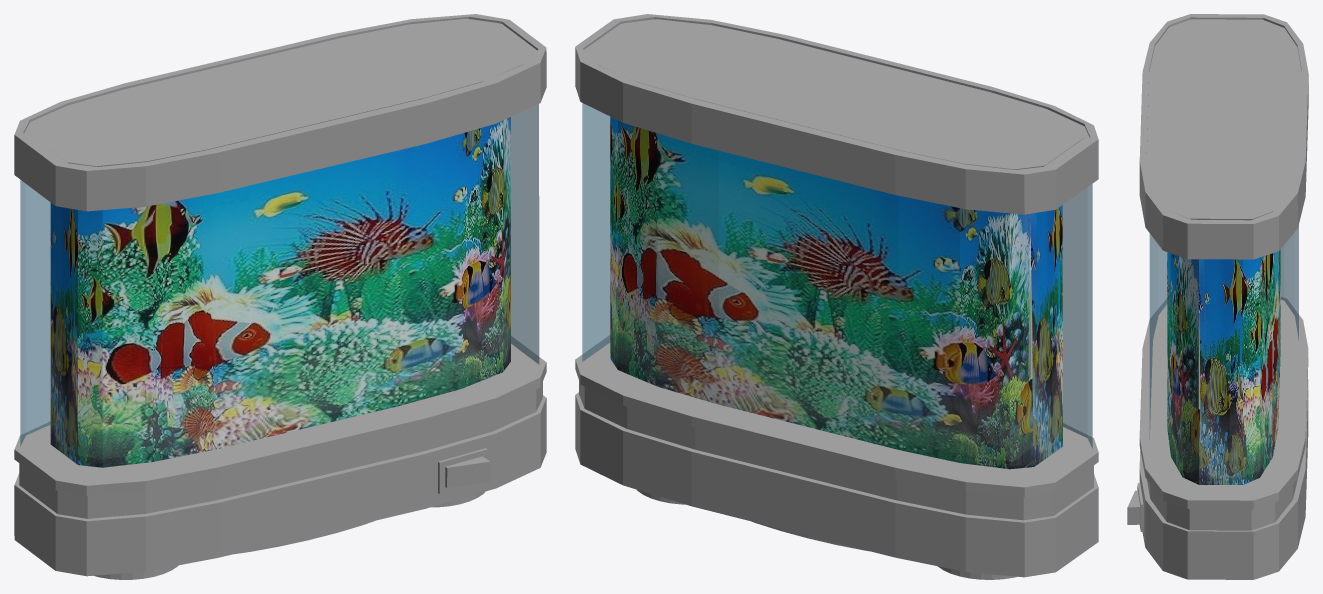
The model's file is SeabedLamp3D.glb.
3 renders of one model, left to right at view 1: azimuth 30°, elevation 25°; view 2: azimuth 150°, elevation 25°; view 3: azimuth 270°, elevation 25°, orthographic. The views are drawn at different scales.
Visible parts, largest first — view 1: Cube; view 2: Cube; view 3: Cube.
Part boxes in pixels (box(x1,y1,x2,y2)): Cube: box(14, 14, 546, 579); Cube: box(575, 14, 1098, 579); Cube: box(1127, 14, 1308, 579).
Bounding box in the file's own units: 0.6045 × 0.5029 × 0.2201.
4 materials, 2 textured.
